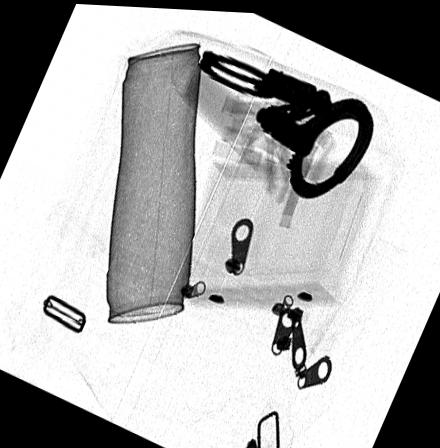HandCuffs: (197, 48, 375, 195)
